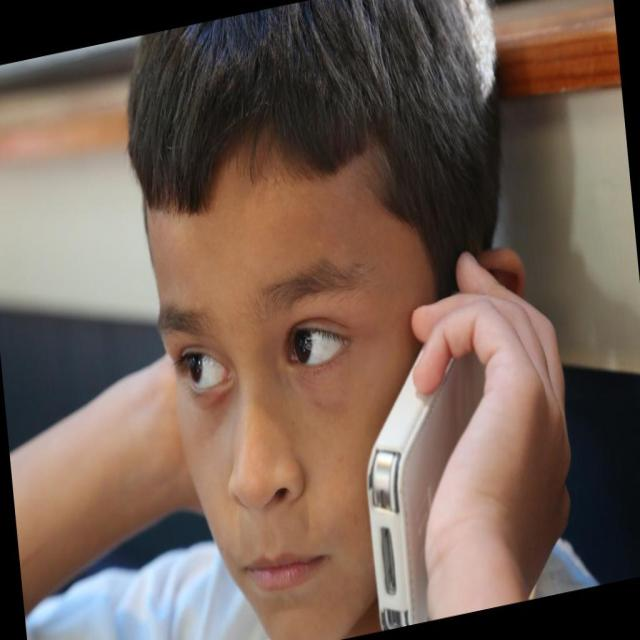phone: (368, 302, 526, 626)
